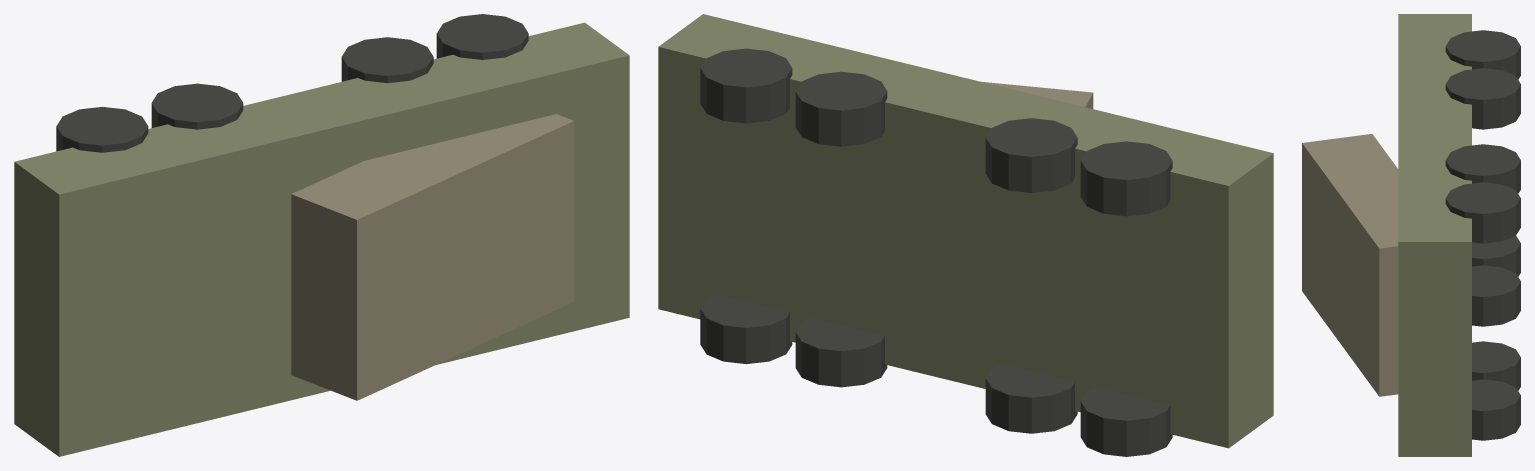
The picture shows the model from 3 angles, left to right: view 1: azimuth 30°, elevation 25°; view 2: azimuth 150°, elevation 25°; view 3: azimuth 270°, elevation 25°; orthographic projection. The views are drawn at different scales.
Visible parts, largest first — view 1: geometry_0; view 2: geometry_0; view 3: geometry_0.
Part boxes in pixels (<box>): geometry_0: <box>14,14,629,456</box>; geometry_0: <box>658,14,1273,456</box>; geometry_0: <box>1302,14,1520,456</box>.
Size of the model in its own units: 6.6 by 3.06 by 2.68.
